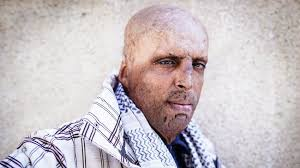middle_eastern_male: (135, 26, 214, 142)
